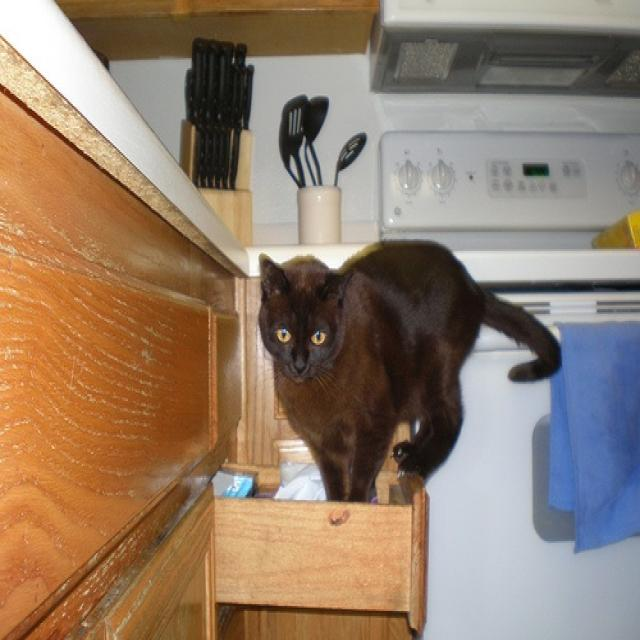cat: (256, 237, 562, 503)
